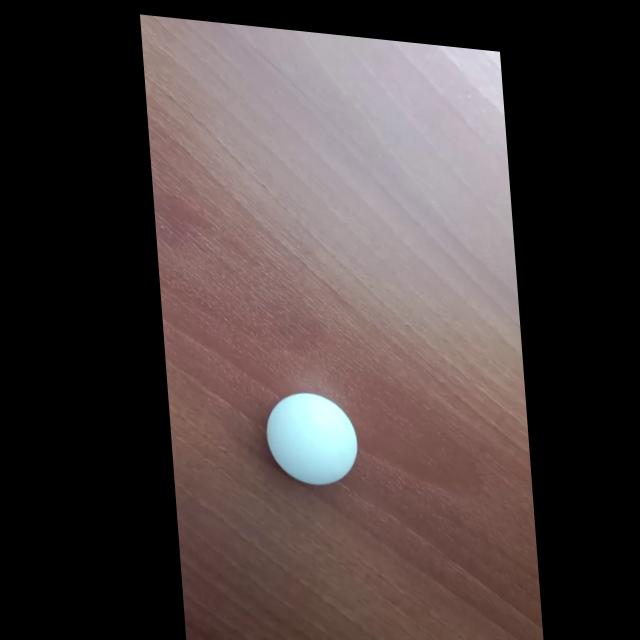white ball: (262, 387, 361, 491)
